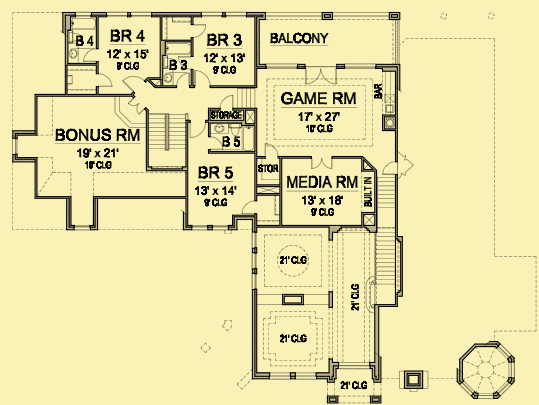door: (303, 64, 338, 86), (120, 74, 145, 90), (193, 68, 213, 88), (186, 118, 205, 139), (310, 155, 334, 171), (126, 96, 145, 115), (96, 72, 113, 90), (380, 158, 397, 176), (189, 21, 207, 37), (240, 198, 256, 216), (262, 142, 277, 159), (218, 93, 233, 108), (81, 48, 97, 62), (174, 73, 188, 88)
stairs: (374, 178, 400, 306), (146, 113, 189, 173)
tub: (163, 38, 192, 57), (242, 123, 255, 151), (68, 17, 95, 30)
windows: (249, 228, 259, 293), (267, 370, 317, 382), (195, 9, 249, 20), (102, 9, 151, 20), (188, 223, 231, 233), (341, 61, 376, 70), (263, 61, 297, 69)
